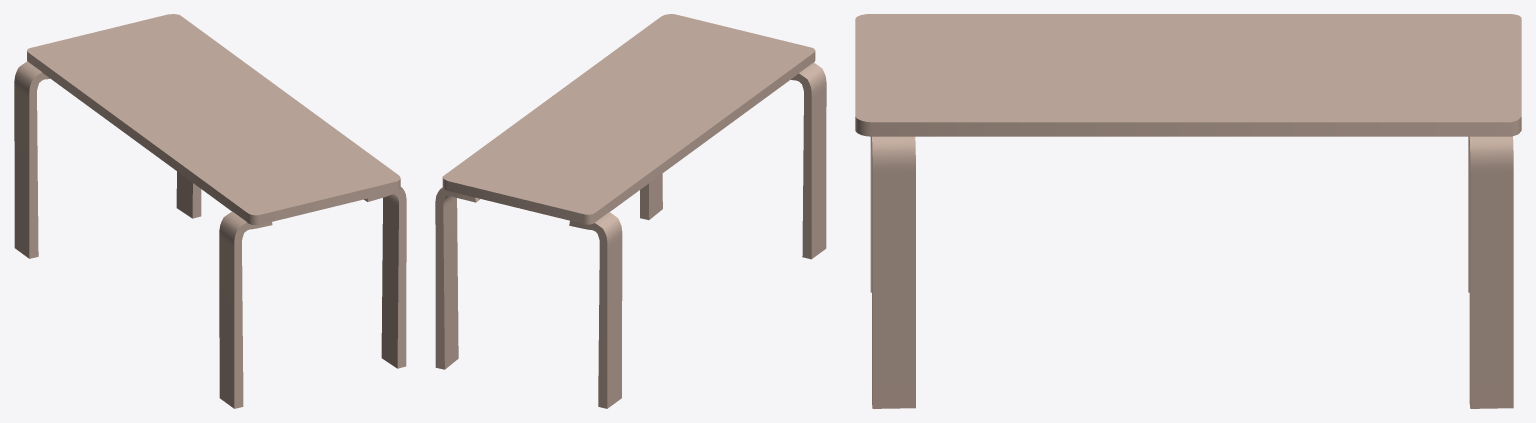
File: side table bench .fbx
3 renders of one model, left to right at view 1: azimuth 30°, elevation 25°; view 2: azimuth 150°, elevation 25°; view 3: azimuth 270°, elevation 25°, orthographic. The views are drawn at different scales.
Visible parts, largest first — view 1: Cube.013; view 2: Cube.013; view 3: Cube.013.
Boxes of the visible parts, x1,y1,x2,y2 form: Cube.013: (14,14,406,408); Cube.013: (435,14,826,408); Cube.013: (855,14,1521,408).
Size of the model in its own units: 47.36 by 50.46 by 108.
